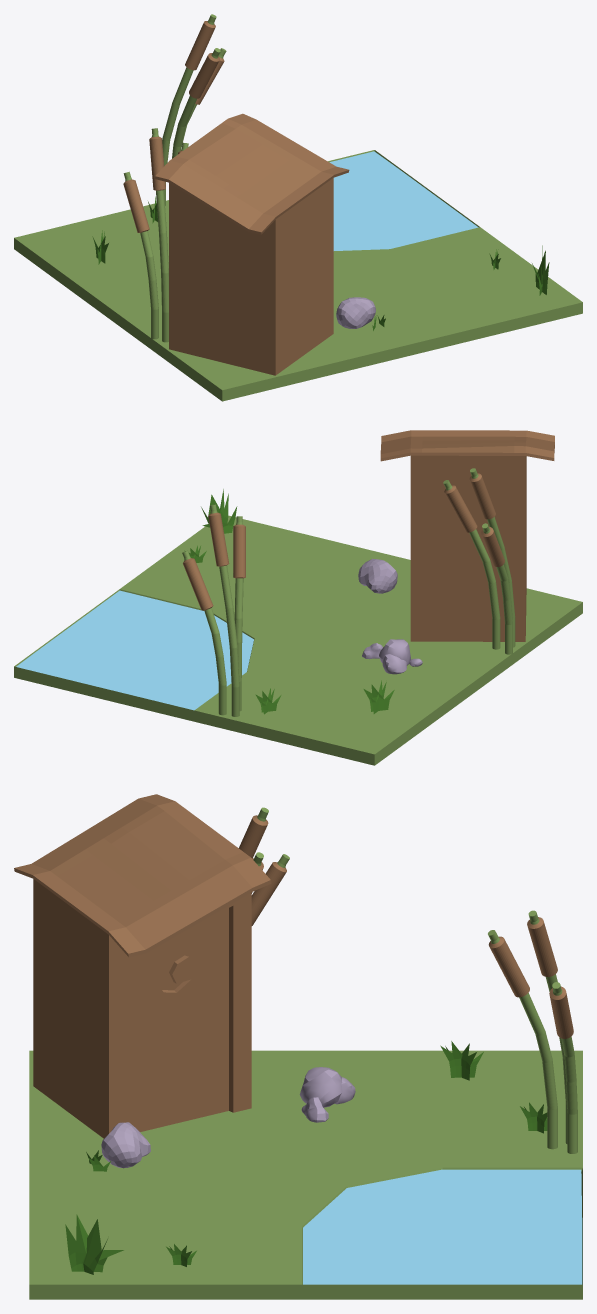
Rendered from frogpond.fbx.
The picture shows the model from 3 angles, top to bottom: view 1: azimuth 30°, elevation 25°; view 2: azimuth 150°, elevation 25°; view 3: azimuth 270°, elevation 25°; orthographic projection. The views are drawn at different scales.
Visible parts, largest first — view 1: Cube, Cube.001, Cylinder, rock, Plane.003; view 2: Cube, Cube.001, Cylinder, Plane.003, rock, rock.001; view 3: Cube, Cube.001, Cylinder, Plane.003, rock, rock.001.
Part boxes in pixels (x1,y1,x2,y2): Cube: (14, 150, 582, 401); Cube.001: (154, 113, 349, 375); Cylinder: (123, 14, 226, 342); rock: (336, 297, 375, 328); Plane.003: (92, 196, 549, 330); Cube: (14, 515, 582, 765); Cube.001: (380, 430, 554, 641); Cylinder: (182, 468, 515, 716); Plane.003: (184, 489, 394, 714); rock: (358, 558, 397, 593); rock.001: (379, 639, 410, 665); Cube: (29, 1050, 582, 1299); Cube.001: (14, 794, 271, 1138); Cylinder: (239, 807, 577, 1153); Plane.003: (65, 1041, 547, 1274); rock: (101, 1122, 150, 1168); rock.001: (299, 1067, 342, 1107).
Size of the model in its own units: 1168 by 625 by 1199.
